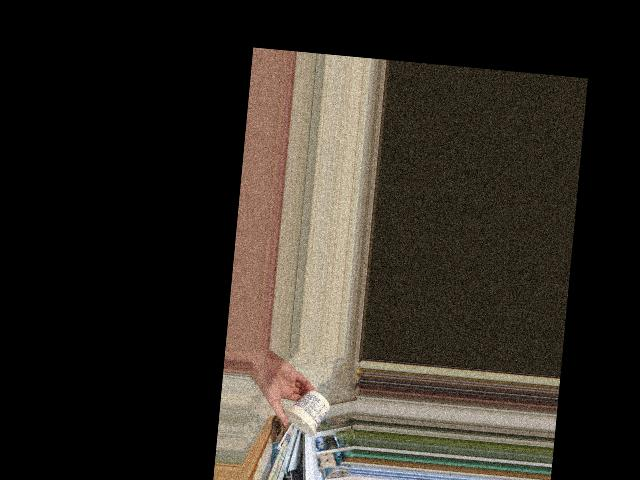cotage: (282, 394, 329, 440)
